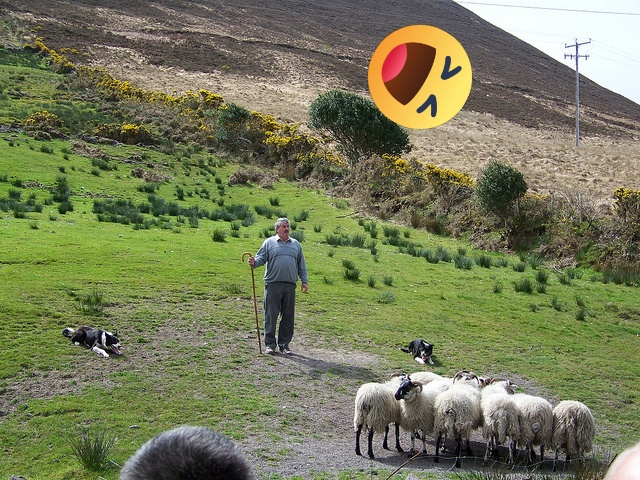haha: (368, 25, 472, 129)
